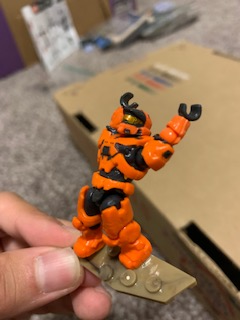spartan: (71, 93, 203, 270)
up: (72, 93, 204, 180)
